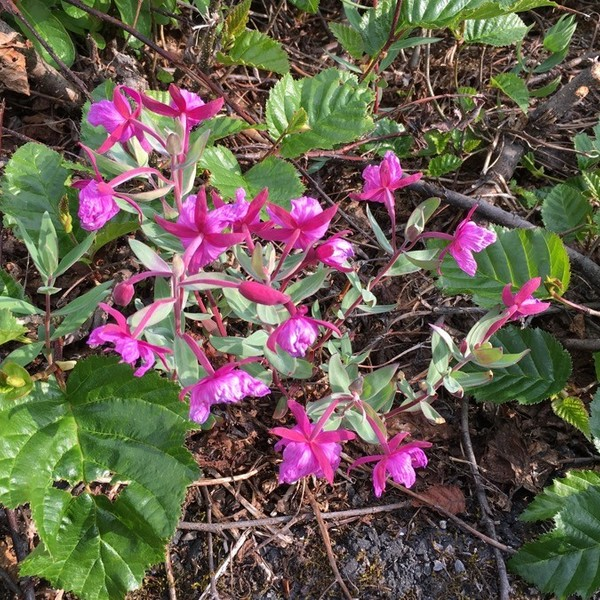obstacle: (48, 108, 524, 463)
